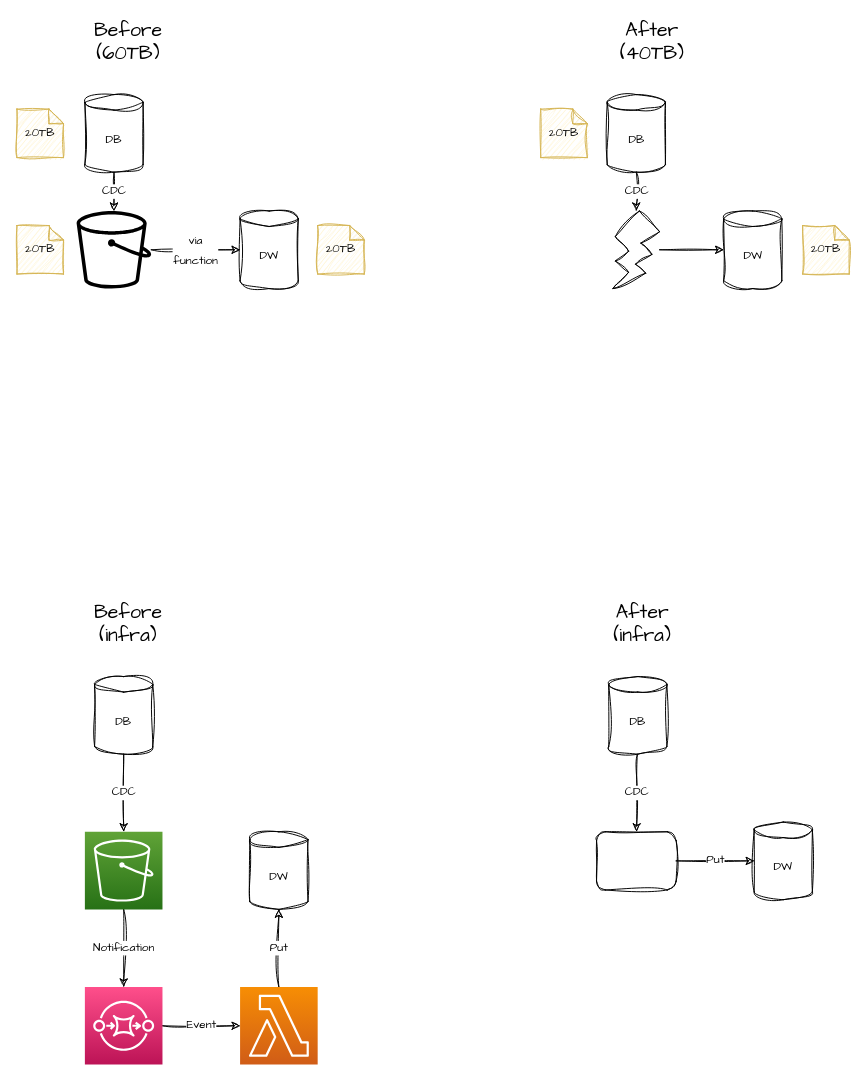
The diagram is 866 pixels wide and 1082 high, and some of its shapes have lost their labels. Here are the shapes that lost their labels. From the top down, the box of each, then its label:
(76, 210, 151, 288): S3
(612, 210, 660, 289): Adapter
(596, 831, 676, 890): Service
